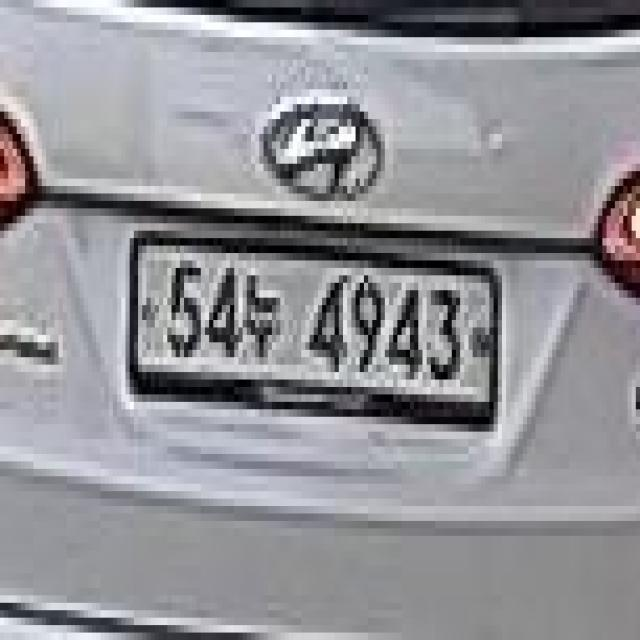3: (430, 284, 462, 384)
4: (306, 270, 350, 374), (206, 260, 246, 362), (391, 276, 428, 386)
5: (168, 260, 205, 358)
9: (353, 268, 389, 376)
license_plate: (123, 229, 509, 436)
nu: (248, 262, 282, 366)
